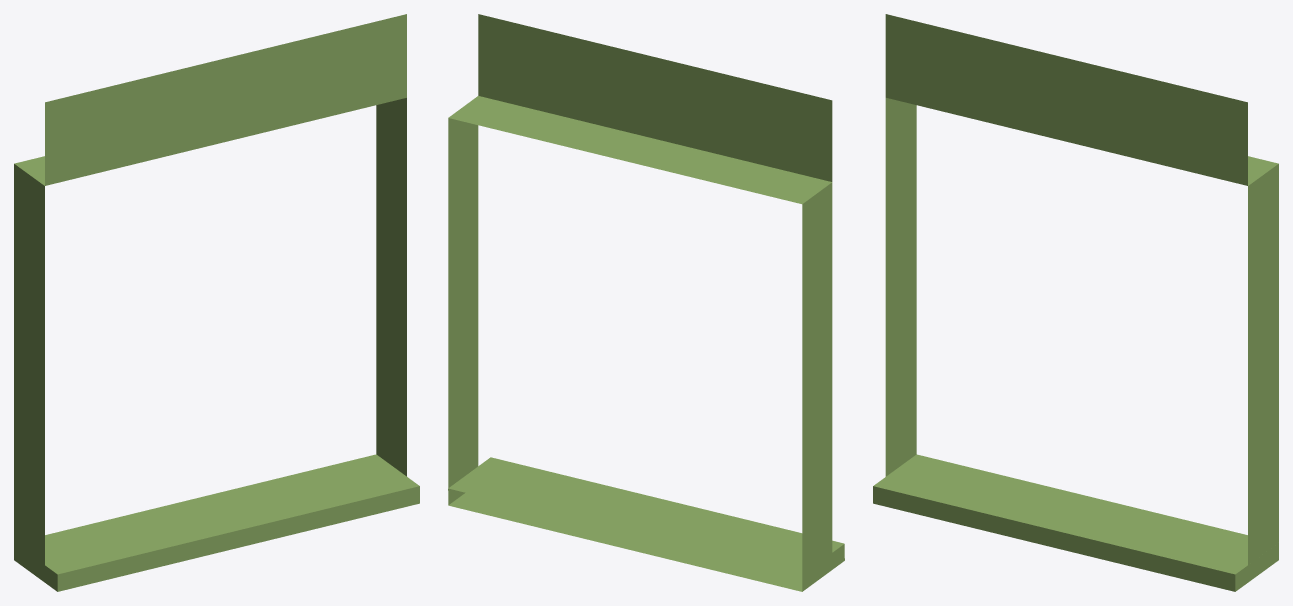
File: Itr_Wall_Color_07(for_window).FBX
3 renders of one model, left to right at view 1: azimuth 30°, elevation 25°; view 2: azimuth 150°, elevation 25°; view 3: azimuth 330°, elevation 25°, orthographic. The views are drawn at different scales.
Parts seen in each view (by area): view 1: Itr_Wall_Color_07(for_window); view 2: Itr_Wall_Color_07(for_window); view 3: Itr_Wall_Color_07(for_window).
Part boxes in pixels (bbox=[...]): Itr_Wall_Color_07(for_window): bbox=[14, 14, 419, 591]; Itr_Wall_Color_07(for_window): bbox=[448, 14, 844, 591]; Itr_Wall_Color_07(for_window): bbox=[873, 14, 1278, 591].
Bounding box in the file's own units: 65.28 × 82.71 × 13.59.
